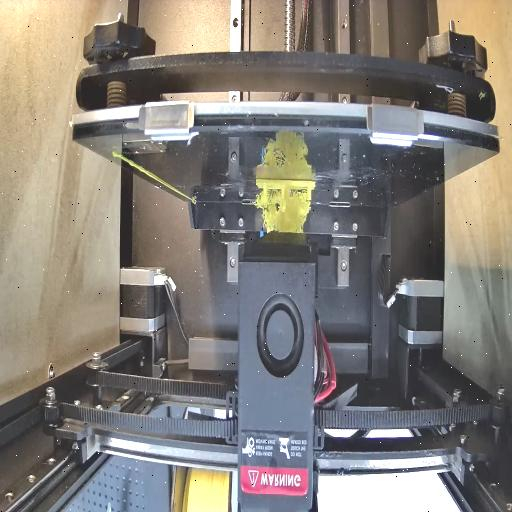spaghetti: (254, 191, 314, 235)
